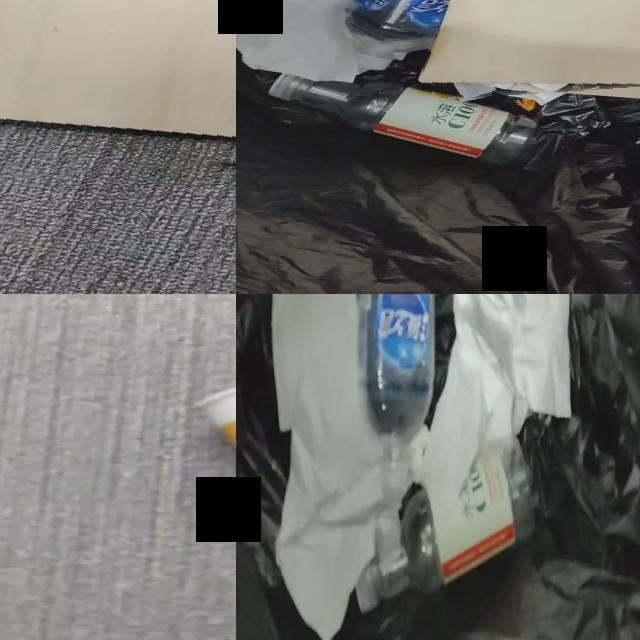bottle: (357, 436, 534, 611), (270, 74, 546, 164), (359, 294, 434, 493), (345, 0, 452, 74)
carton: (0, 0, 236, 143), (423, 0, 640, 87)
paper: (407, 294, 572, 539), (272, 294, 387, 640), (236, 0, 360, 82), (452, 86, 564, 106), (375, 509, 407, 579), (618, 0, 640, 11)
